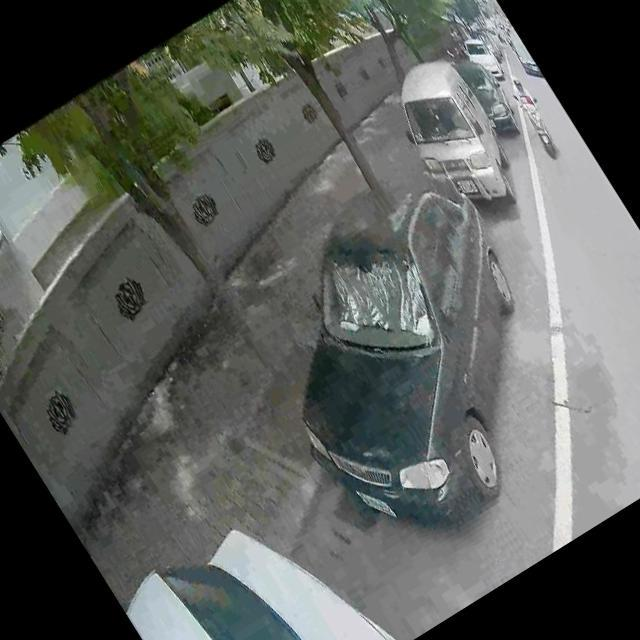person: (506, 74, 538, 113)
